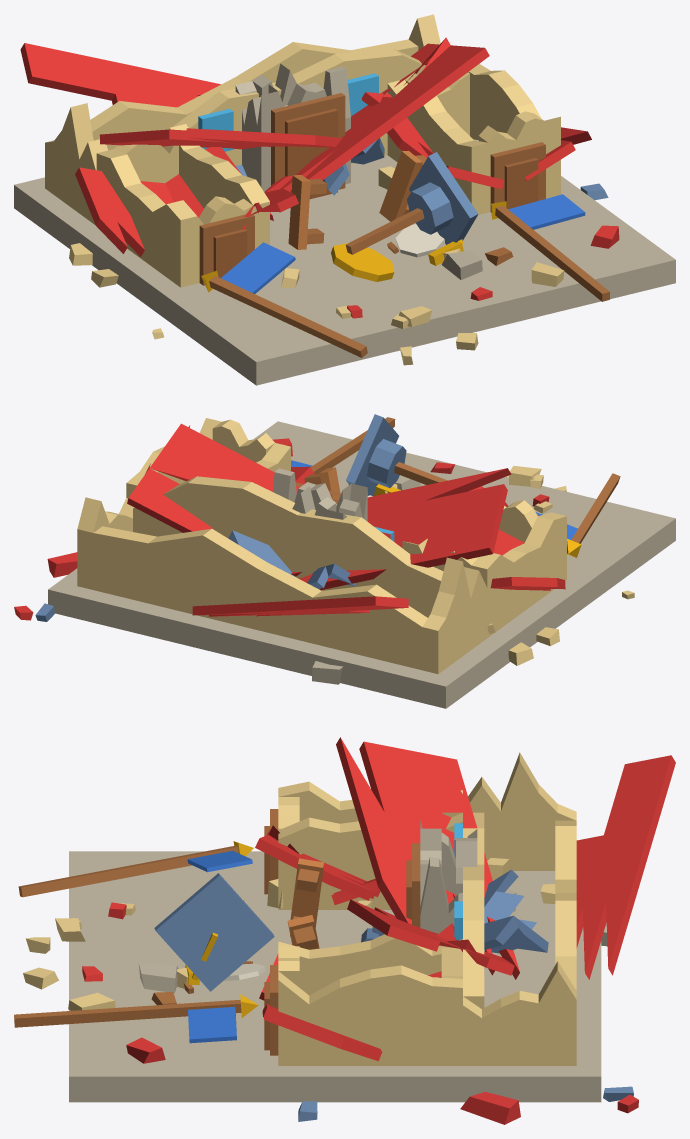
Rendered from university_t2_v1_dmg2.glb.
3 renders of one model, top to bottom at view 1: azimuth 30°, elevation 25°; view 2: azimuth 150°, elevation 25°; view 3: azimuth 270°, elevation 25°, orthographic. The views are drawn at different scales.
Parts seen in each view (by area): view 1: university_t2_v1_dmg2; view 2: university_t2_v1_dmg2; view 3: university_t2_v1_dmg2.
Boxes of the visible parts, x1=… form: university_t2_v1_dmg2: x1=14, y1=14, x2=675, y2=385; university_t2_v1_dmg2: x1=14, y1=414, x2=675, y2=708; university_t2_v1_dmg2: x1=14, y1=737, x2=675, y2=1124.
Size of the model in its own units: 0.88 by 0.2627 by 0.9324.
Materials: 1 (1 with a texture image).
